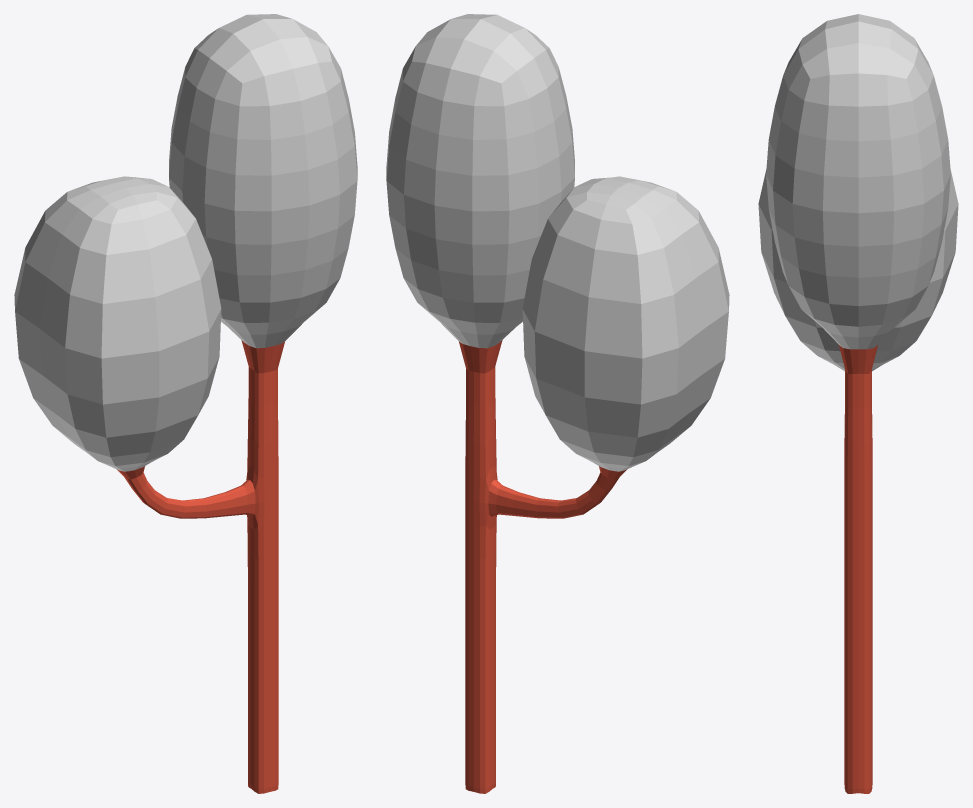
Rendered from tree3.fbx.
The picture shows the model from 3 angles, left to right: view 1: azimuth 30°, elevation 25°; view 2: azimuth 150°, elevation 25°; view 3: azimuth 270°, elevation 25°; orthographic projection.
Visible parts, largest first — view 1: Cube; view 2: Cube; view 3: Cube.
Boxes of the visible parts, x1,y1,x2,y2 form: Cube: (14, 14, 357, 793); Cube: (386, 14, 729, 793); Cube: (758, 14, 958, 793).
Bounding box in the file's own units: 414 × 1001 × 236.
